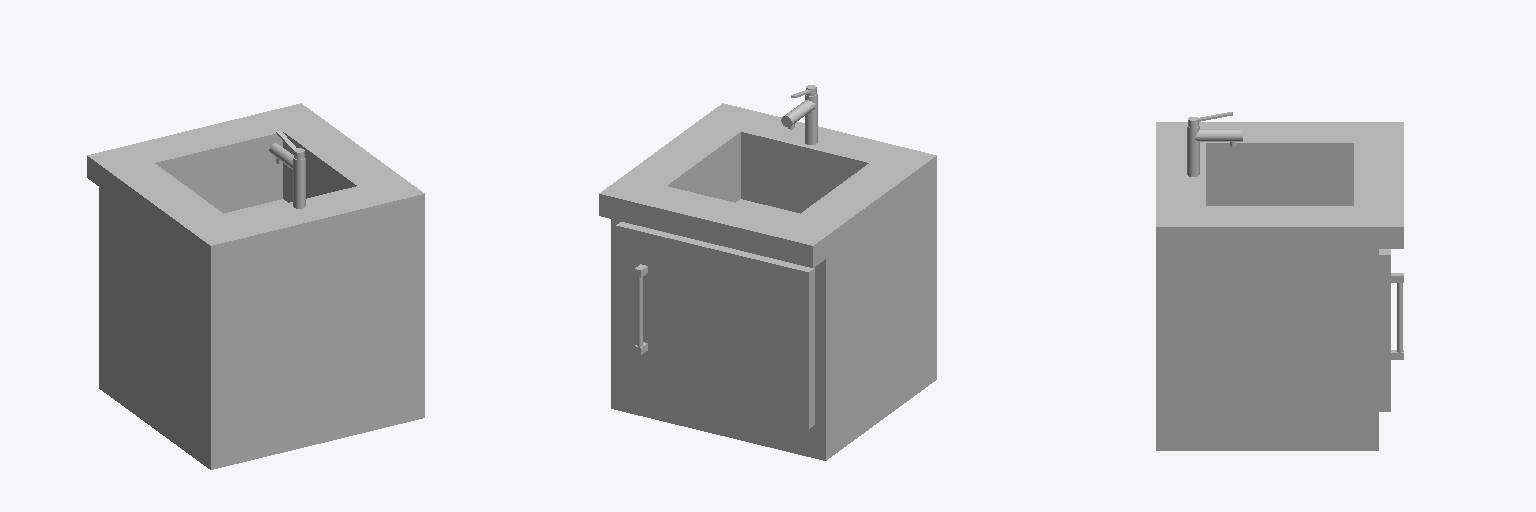
File: wash.obj
3 renders of one model, left to right at view 1: azimuth 30°, elevation 25°; view 2: azimuth 150°, elevation 25°; view 3: azimuth 270°, elevation 25°, orthographic.
Parts seen in each view (by area): view 1: wash_Cylinder.001; view 2: wash_Cylinder.001; view 3: wash_Cylinder.001.
Boxes of the visible parts, x1,y1,x2,y2 form: wash_Cylinder.001: [87, 103, 424, 469]; wash_Cylinder.001: [599, 85, 936, 460]; wash_Cylinder.001: [1156, 112, 1403, 450].
Bounding box in the file's own units: 2 × 2.55 × 2.